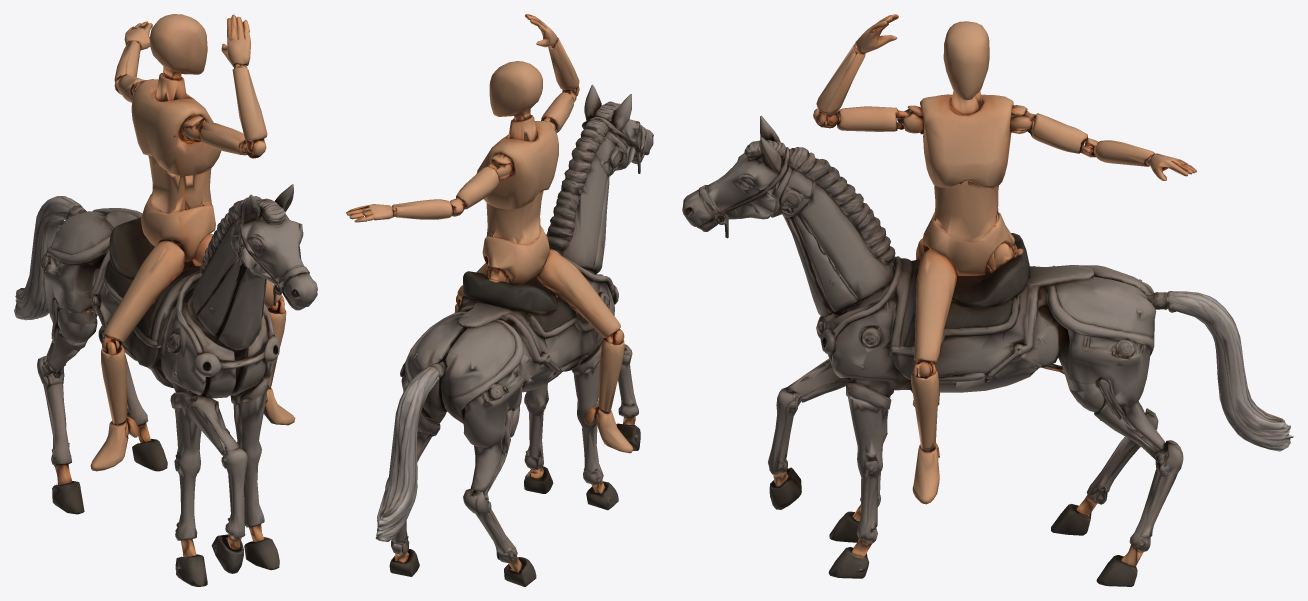
File: tripo_h31_mannequin_horse_mount_rig.glb
The picture shows the model from 3 angles, left to right: view 1: azimuth 30°, elevation 25°; view 2: azimuth 150°, elevation 25°; view 3: azimuth 270°, elevation 25°; orthographic projection. The views are drawn at different scales.
Visible parts, largest first — view 1: tripo_node_c3e081a0-b4d5-42f4-8a08-366db8c22741; view 2: tripo_node_c3e081a0-b4d5-42f4-8a08-366db8c22741; view 3: tripo_node_c3e081a0-b4d5-42f4-8a08-366db8c22741.
Part boxes in pixels (x1,y1,x2,y2): tripo_node_c3e081a0-b4d5-42f4-8a08-366db8c22741: [14, 14, 317, 586]; tripo_node_c3e081a0-b4d5-42f4-8a08-366db8c22741: [346, 14, 653, 586]; tripo_node_c3e081a0-b4d5-42f4-8a08-366db8c22741: [682, 14, 1293, 586].
Bounding box in the file's own units: 0.3882 × 0.979 × 0.9745.
Materials: 1 (1 with a texture image).
